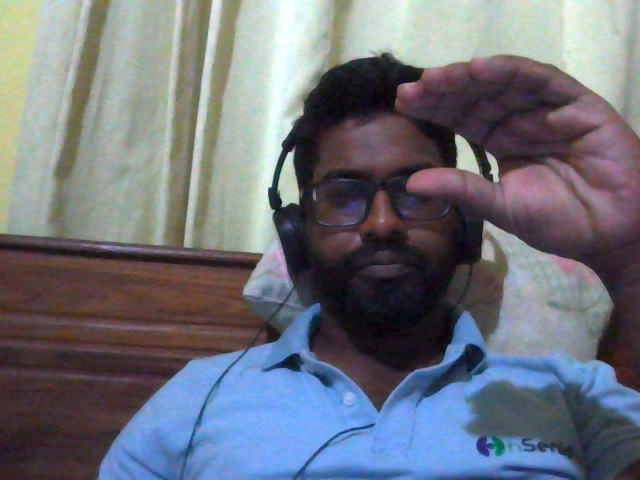No: (355, 42, 640, 284)
